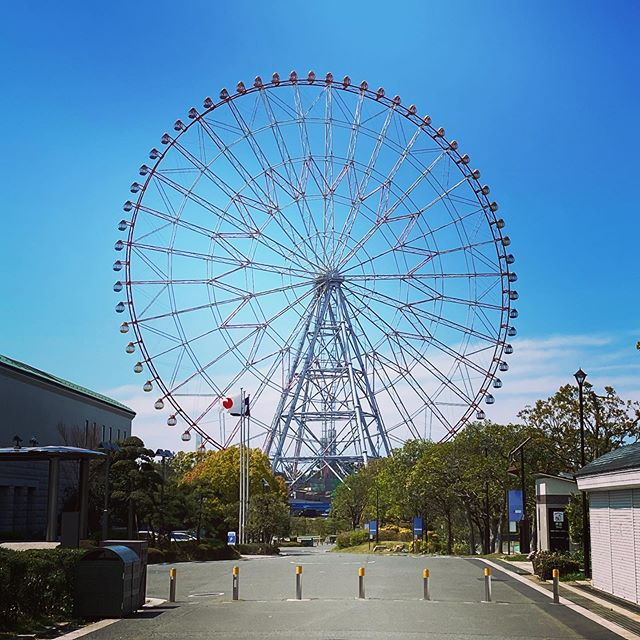building: (1, 355, 137, 508), (562, 459, 640, 627)
ferris wheel: (114, 70, 523, 491)
sky: (11, 1, 640, 356)
street: (136, 561, 597, 640)
